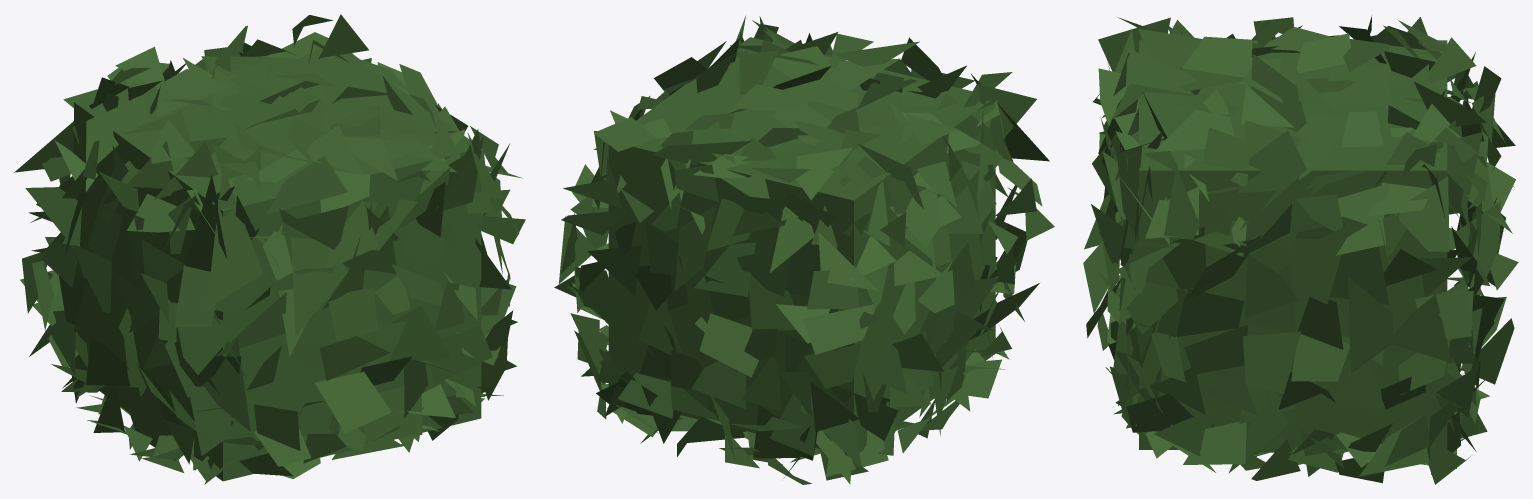
The model's file is hedge.fbx.
3 views of the same model, side by side, from view 1: azimuth 30°, elevation 25°; view 2: azimuth 150°, elevation 25°; view 3: azimuth 270°, elevation 25° (orthographic). The views are drawn at different scales.
Visible parts, largest first — view 1: Cube.001, Cube.002; view 2: Cube.001, Cube.002; view 3: Cube.001, Cube.002.
Part boxes in pixels (bbox=[...]): Cube.001: bbox=[14, 14, 525, 484]; Cube.002: bbox=[74, 48, 481, 481]; Cube.001: bbox=[554, 15, 1054, 484]; Cube.002: bbox=[608, 37, 995, 455]; Cube.001: bbox=[1083, 16, 1518, 484]; Cube.002: bbox=[1139, 40, 1447, 449].
Bounding box in the file's own units: 95.54 × 84.41 × 90.81.
